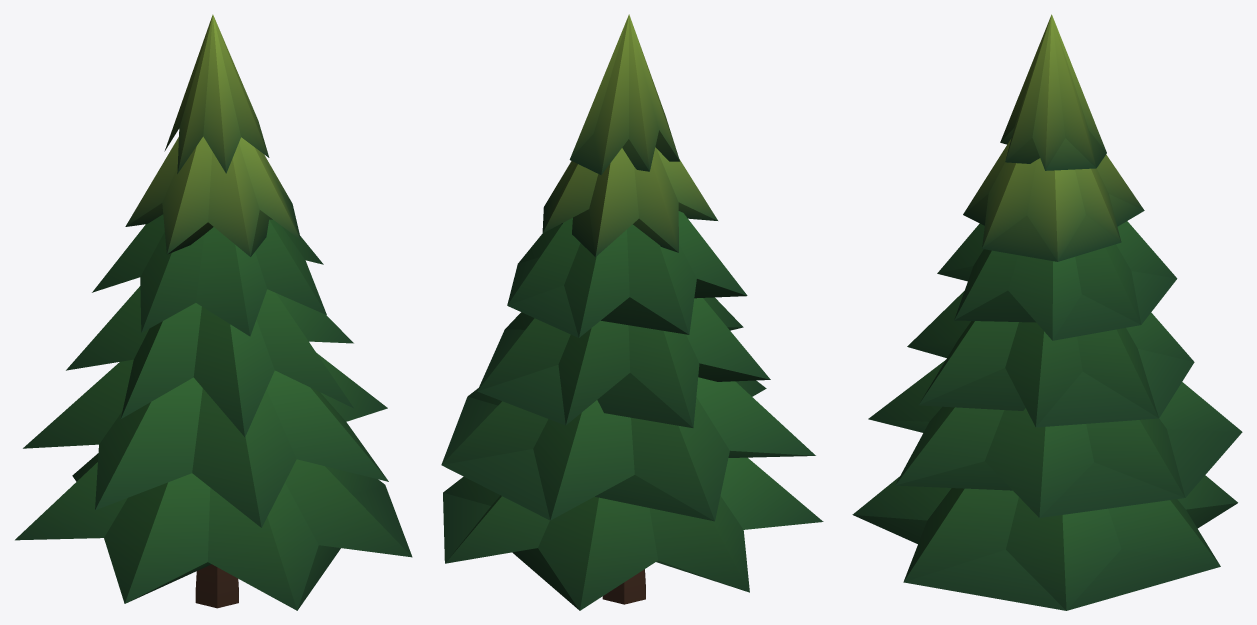
File: tree_pine_2.glb
The picture shows the model from 3 angles, left to right: view 1: azimuth 30°, elevation 25°; view 2: azimuth 150°, elevation 25°; view 3: azimuth 270°, elevation 25°; orthographic projection.
Parts seen in each view (by area): view 1: tree_pine_2; view 2: tree_pine_2; view 3: tree_pine_2.
Boxes of the visible parts, bbox=[...] form: tree_pine_2: bbox=[15, 14, 412, 610]; tree_pine_2: bbox=[441, 14, 823, 610]; tree_pine_2: bbox=[852, 14, 1242, 610].
Size of the model in its own units: 1.17 by 1.92 by 1.19.
